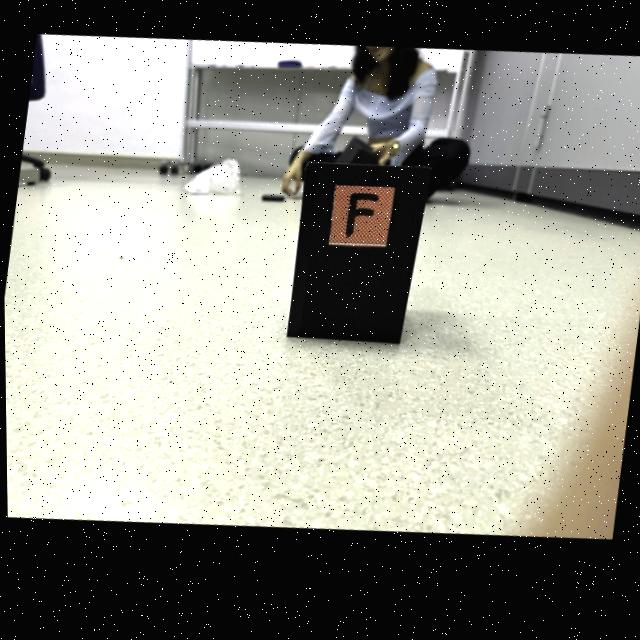F: (345, 201, 378, 244)
